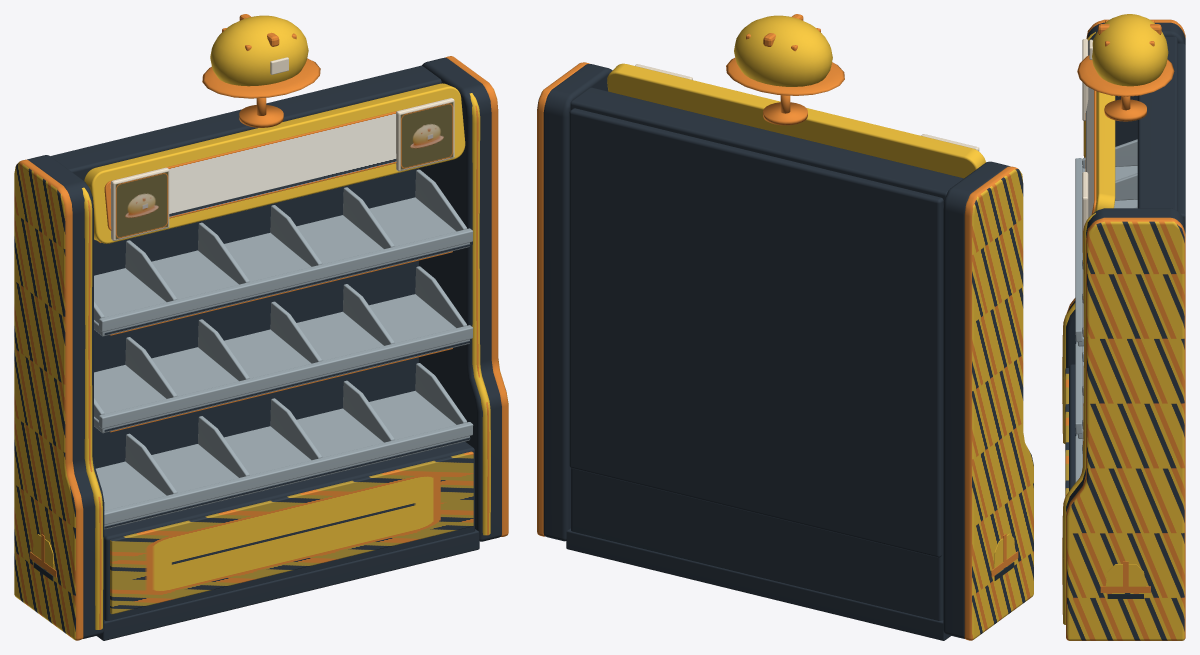
Rendered from TH_CONSTRUCTION.fbx.
3 renders of one model, left to right at view 1: azimuth 30°, elevation 25°; view 2: azimuth 150°, elevation 25°; view 3: azimuth 270°, elevation 25°, orthographic. The views are drawn at different scales.
Parts seen in each view (by area): view 1: BaseFrontInset, Left_PaintedPanel, BackPanel.001, Right_StructuralWall, Tray_01, Tray_02, Tray_03, HeaderFace, HeaderBorder, TopCrossRail, Left_StructuralWall, ClosedSolidBase (+34 smaller); view 2: BackPanel.001, Left_PaintedPanel, ClosedSolidBase, Right_StructuralWall, HeaderBorder, Left_StructuralWall, TopCrossRail, LowerPlinth, Hardhat shell, Right_PaintedPanel, Hardhat brim, TopperMount; view 3: Right_PaintedPanel, TopCrossRail, Hardhat shell, HeaderBorder, Left_StructuralWall, BackPanel.001, Hardhat brim, FrontLip_01, HeaderFace, RightHousing, Right_StructuralWall, ClosedSolidBase (+14 smaller).
Part boxes in pixels (x1,y1,x2,y2): BaseFrontInset: [110, 451, 473, 614]; Left_PaintedPanel: [14, 159, 83, 640]; BackPanel.001: [94, 168, 418, 468]; Right_StructuralWall: [419, 57, 501, 541]; Tray_01: [94, 197, 469, 336]; Tray_02: [94, 294, 469, 433]; Tray_03: [95, 391, 469, 529]; HeaderFace: [104, 101, 437, 230]; HeaderBorder: [84, 83, 465, 243]; TopCrossRail: [50, 65, 441, 180]; Left_StructuralWall: [27, 155, 104, 638]; ClosedSolidBase: [104, 441, 474, 620]; BackPanel.001: [569, 108, 943, 557]; Left_PaintedPanel: [964, 166, 1033, 640]; ClosedSolidBase: [571, 468, 943, 620]; Right_StructuralWall: [543, 64, 612, 541]; HeaderBorder: [607, 63, 985, 178]; Left_StructuralWall: [943, 161, 1010, 638]; TopCrossRail: [570, 87, 963, 205]; LowerPlinth: [566, 528, 950, 640]; Hardhat shell: [734, 15, 832, 86]; Right_PaintedPanel: [537, 62, 589, 536]; Hardhat brim: [726, 58, 844, 95]; TopperMount: [763, 102, 807, 125]; Right_PaintedPanel: [1066, 217, 1185, 640]; TopCrossRail: [1137, 36, 1177, 210]; Hardhat shell: [1092, 14, 1168, 86]; HeaderBorder: [1094, 91, 1115, 211]; Left_StructuralWall: [1066, 22, 1185, 367]; BackPanel.001: [1177, 43, 1185, 223]; Hardhat brim: [1077, 55, 1174, 96]; FrontLip_01: [1075, 158, 1082, 341]; HeaderFace: [1085, 87, 1096, 217]; RightHousing: [1062, 212, 1095, 624]; Right_StructuralWall: [1066, 208, 1185, 512]; ClosedSolidBase: [1069, 364, 1075, 490].
Bounding box in the file's own units: 3.62 × 4.37 × 0.9273.
